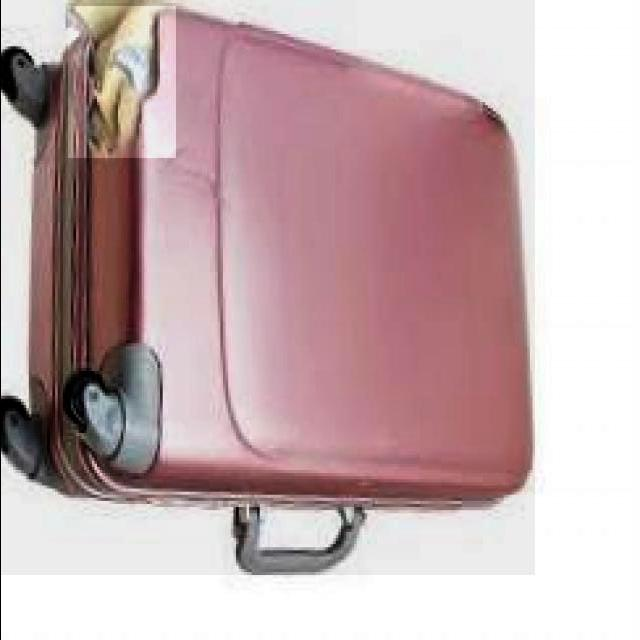Damage-bag: (68, 0, 170, 156)
